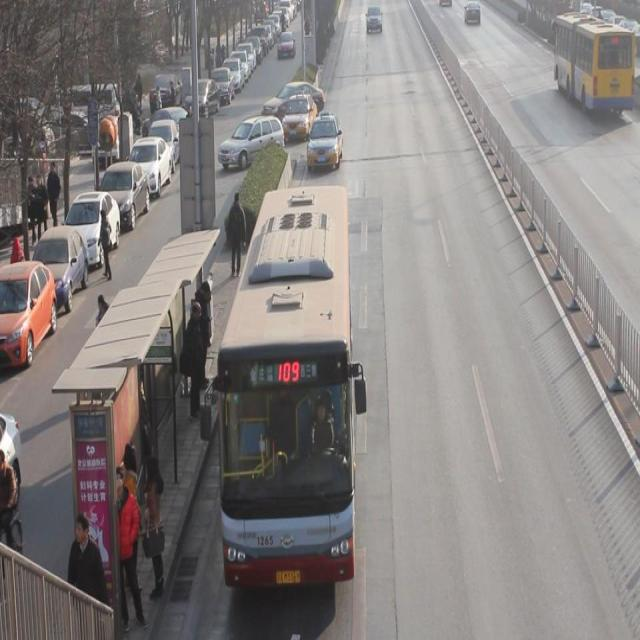car: (264, 80, 325, 125), (307, 111, 343, 171), (284, 94, 317, 140)
van: (218, 187, 352, 580), (553, 13, 631, 117)
